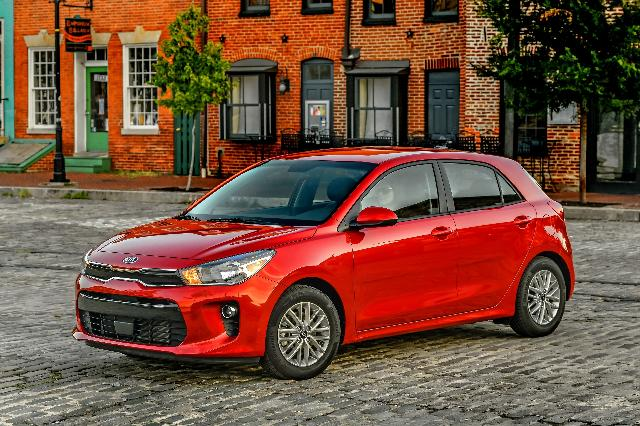kia: (72, 148, 574, 382)
